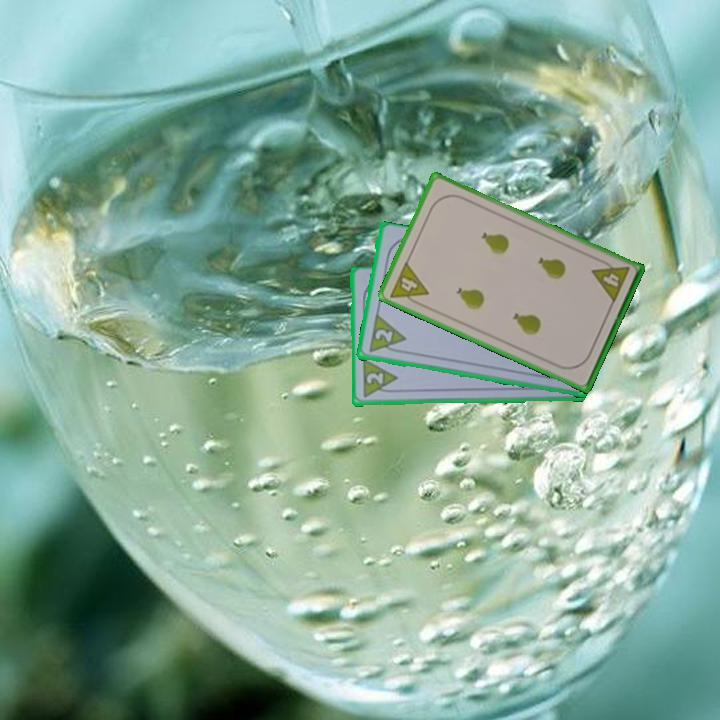2p: (365, 312, 409, 356), (359, 357, 400, 401)
4p: (386, 258, 431, 310), (588, 255, 632, 306)
